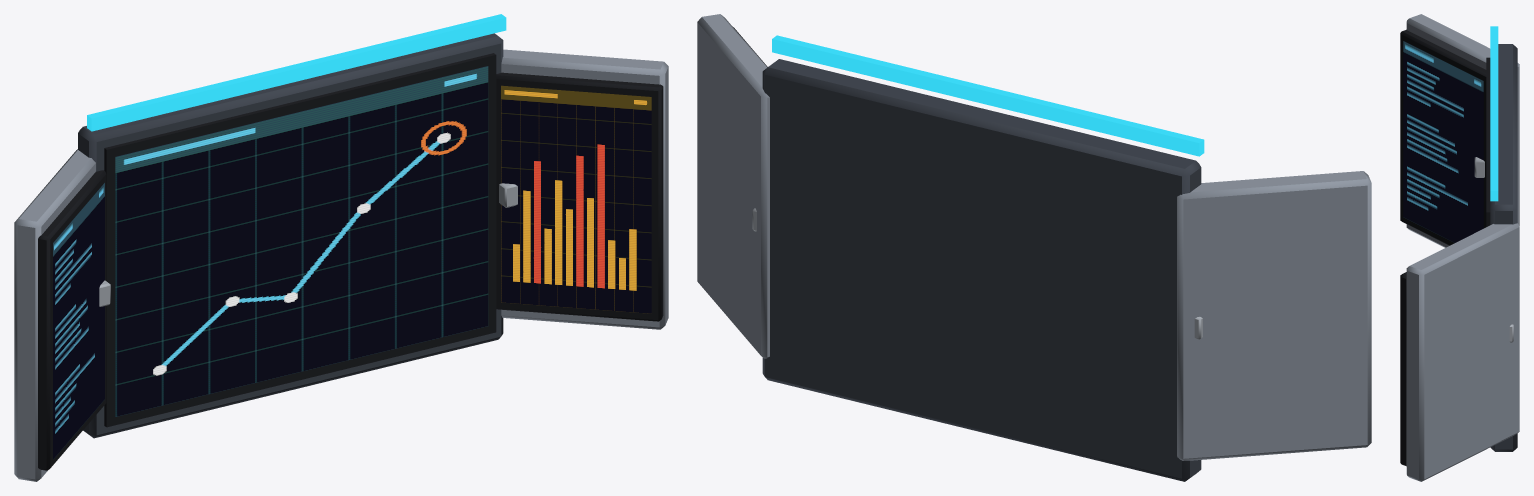
The model's file is display_wing_display.glb.
3 views of the same model, side by side, from view 1: azimuth 30°, elevation 25°; view 2: azimuth 150°, elevation 25°; view 3: azimuth 270°, elevation 25° (orthographic). The views are drawn at different scales.
Visible parts, largest first — view 1: display_wing_display; view 2: display_wing_display; view 3: display_wing_display.
Boxes of the visible parts, x1,y1,x2,y2 form: display_wing_display: (14,14,668,481); display_wing_display: (697,14,1371,481); display_wing_display: (1400,14,1519,481).
Size of the model in its own units: 1.57 by 0.745 by 0.3067.
8 materials, 3 textured.
